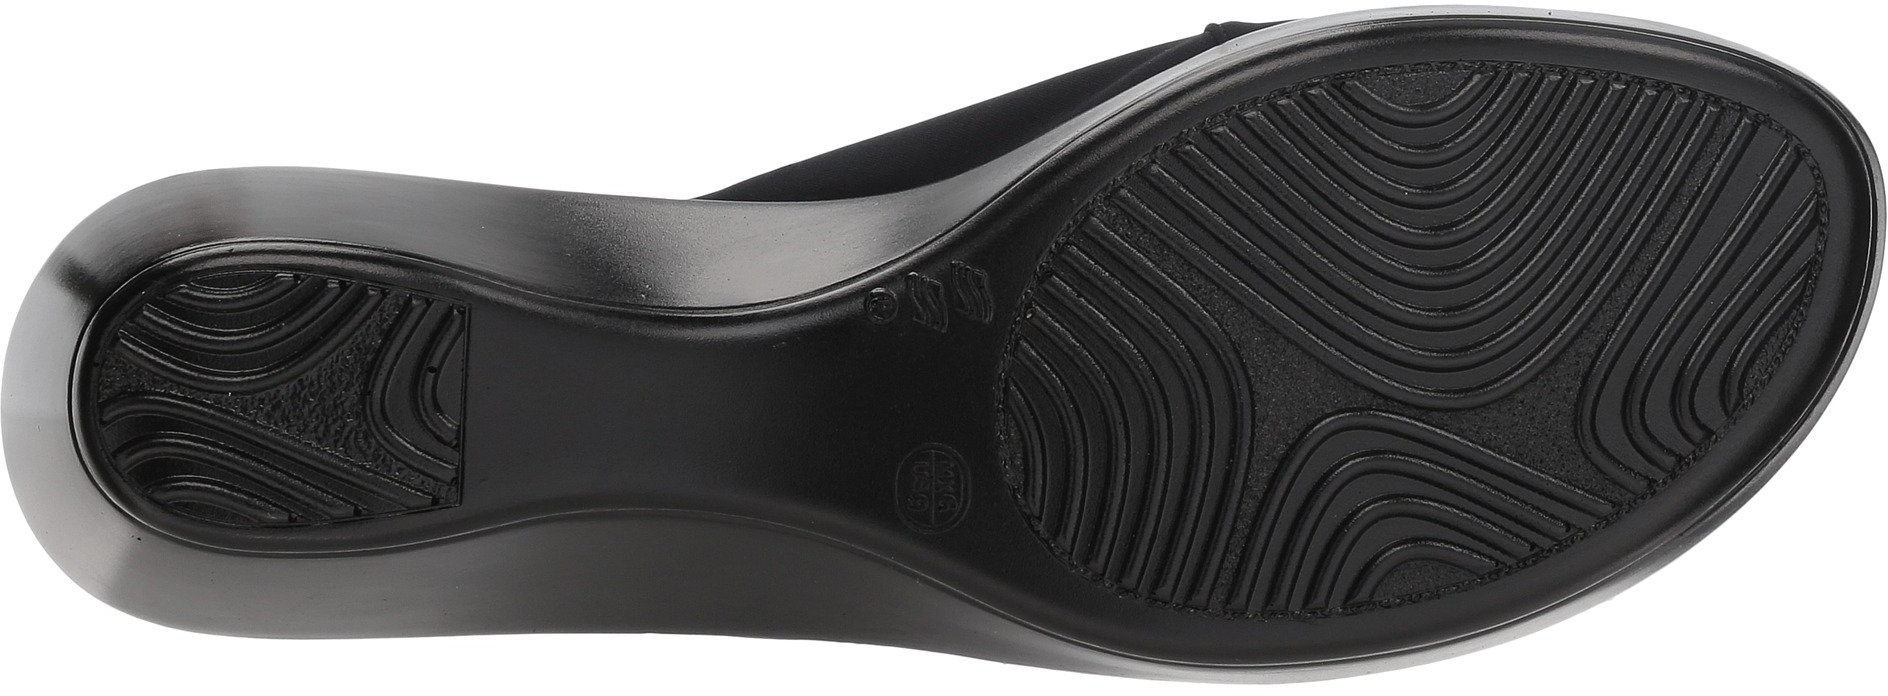circle: (997, 64, 1837, 626)
